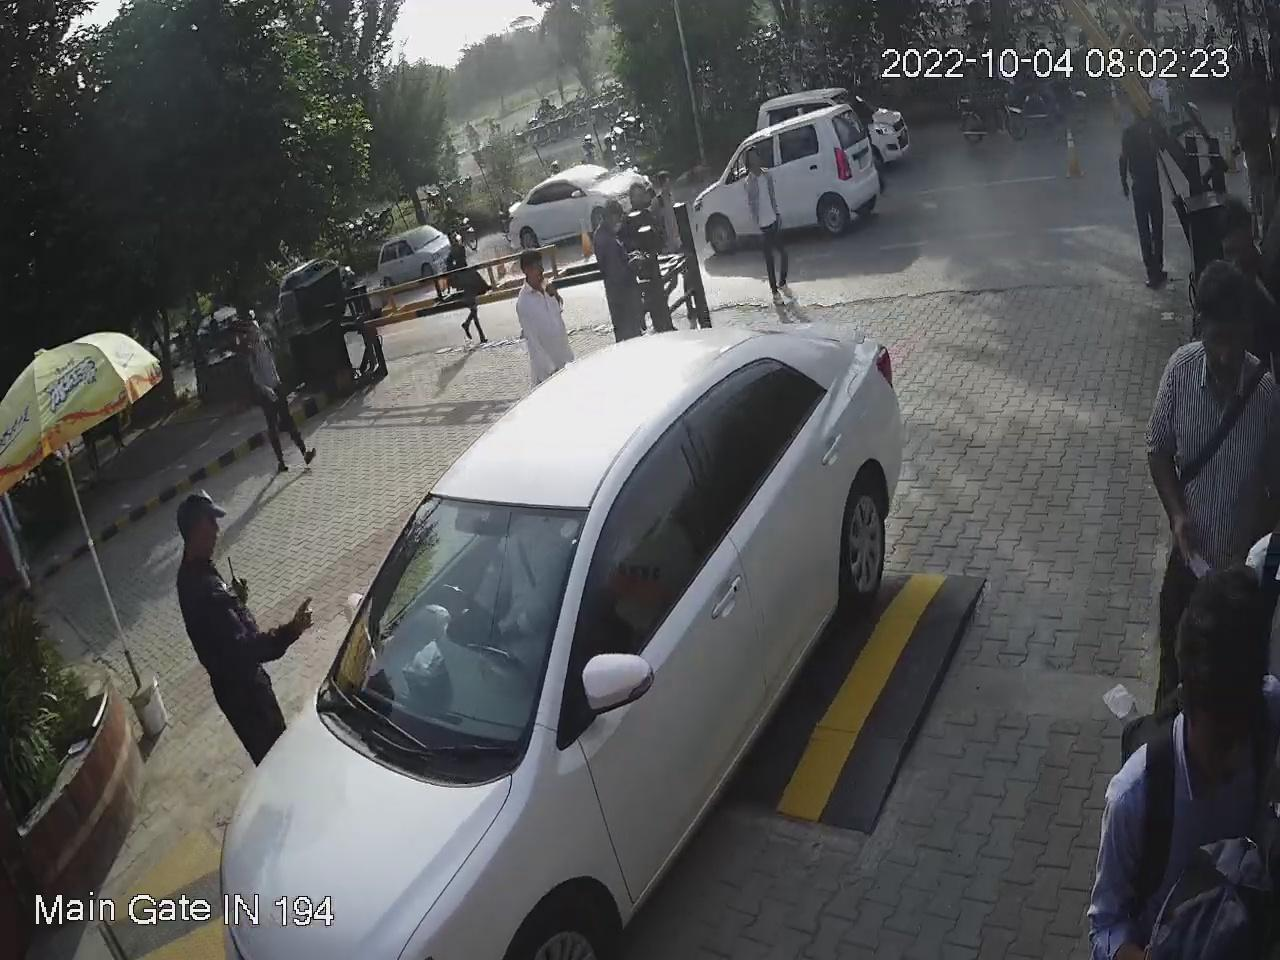windshield: (305, 487, 601, 803)
